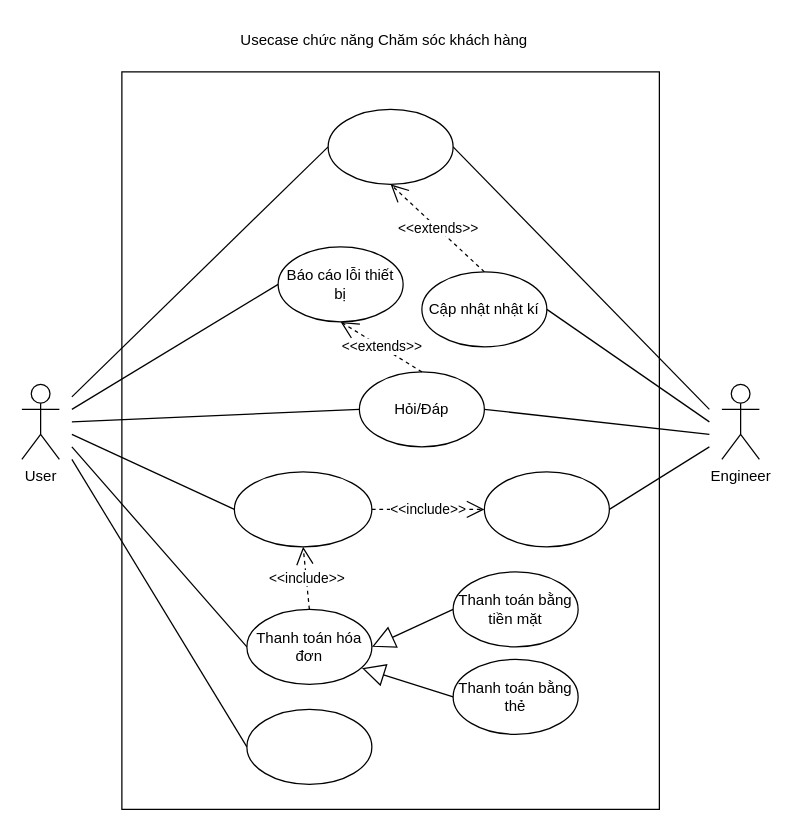
This 793x831 diagram has some shape labels left out. The shapes that lost their labels are listed below. From the top down, each one's centre as x and y in pixels, then its label:
point (390, 146): Xem nhật kí hoạt động
point (302, 509): Xác nhận/hủy hóa đơn
point (546, 509): Tạo hóa đơn sửa chữa
point (309, 746): Feedback/Đánh giá
